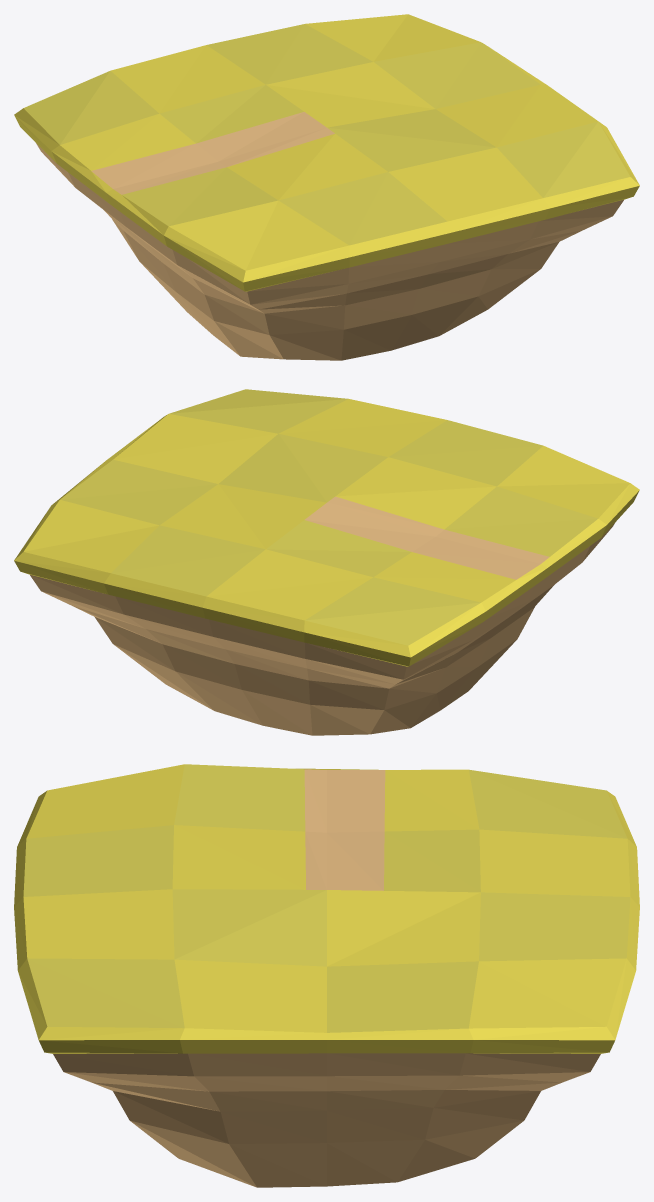
Rendered from ground.fbx.
3 views of the same model, one above another, from view 1: azimuth 30°, elevation 25°; view 2: azimuth 150°, elevation 25°; view 3: azimuth 270°, elevation 25° (orthographic). The views are drawn at different scales.
Visible parts, largest first — view 1: Object_20; view 2: Object_20; view 3: Object_20.
Boxes of the visible parts, left/top/right/bottom form: Object_20: left=14, top=14, right=639, bottom=360; Object_20: left=14, top=389, right=639, bottom=735; Object_20: left=14, top=764, right=639, bottom=1187.
Size of the model in its own units: 20503 by 8646 by 19925.
